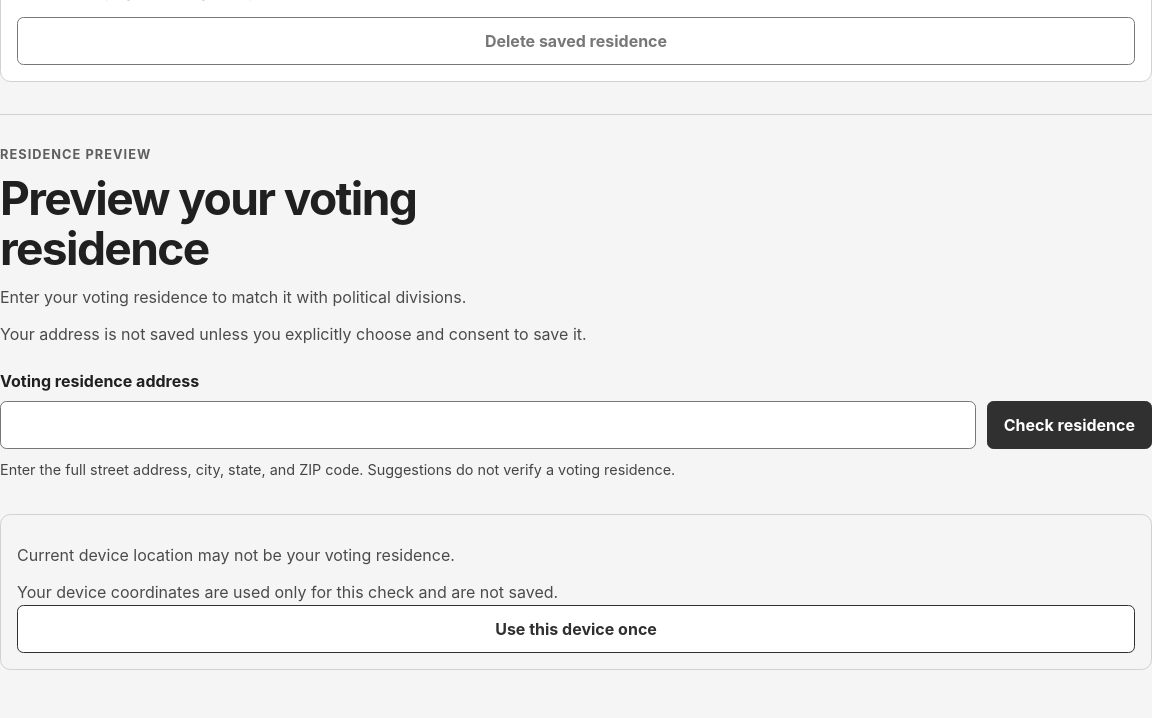
Test: residence preview › renders a saved representation without a revision read-only
(page scrolled)
Check: the button "Delete saved residence" is disabled, box [17,17,1135,65]
Type "742 Evergreen Terrace, Springfield" into the field labelled "Voting residence address" at (488, 425), box [0,401,976,449]
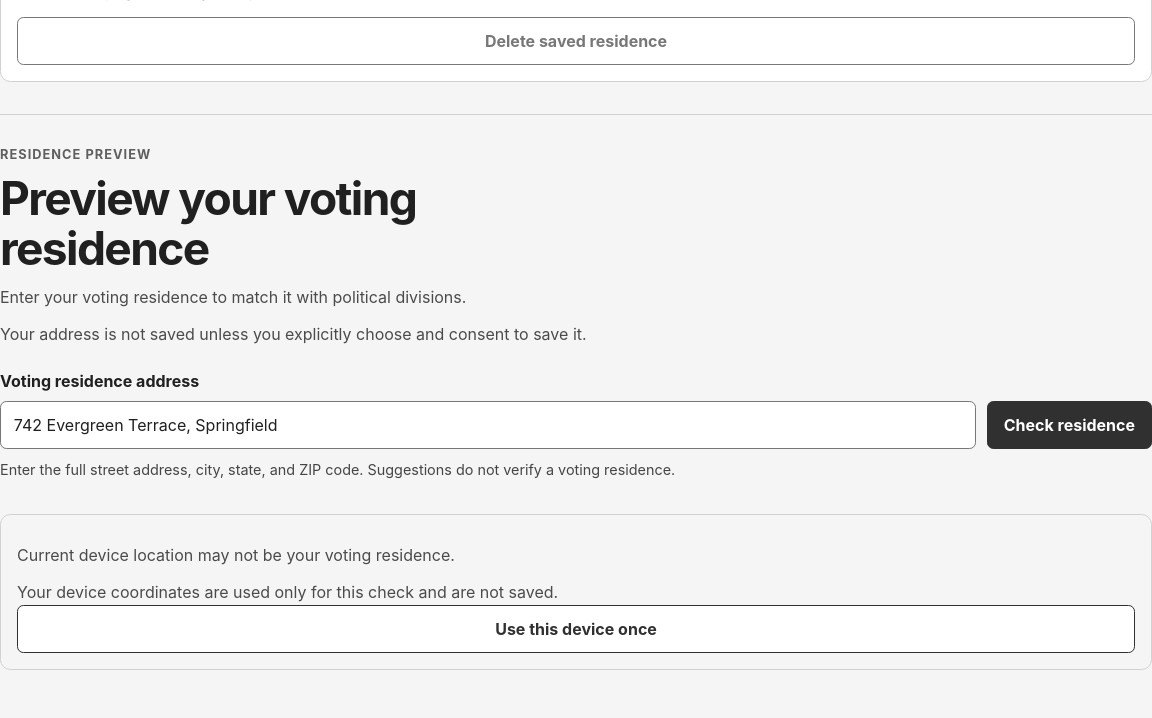
Submit the form "Voting residence address", box [0,371,1151,490]
(page scrolled)
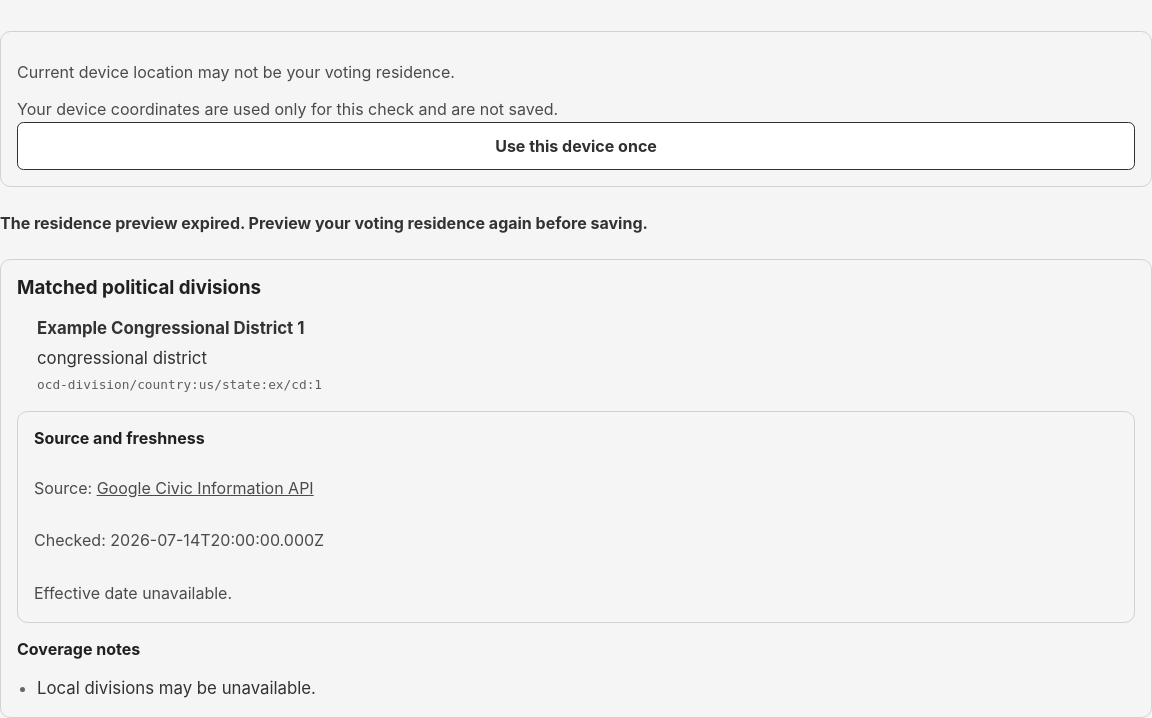
Check: the element named "Residence preview match" is shown
